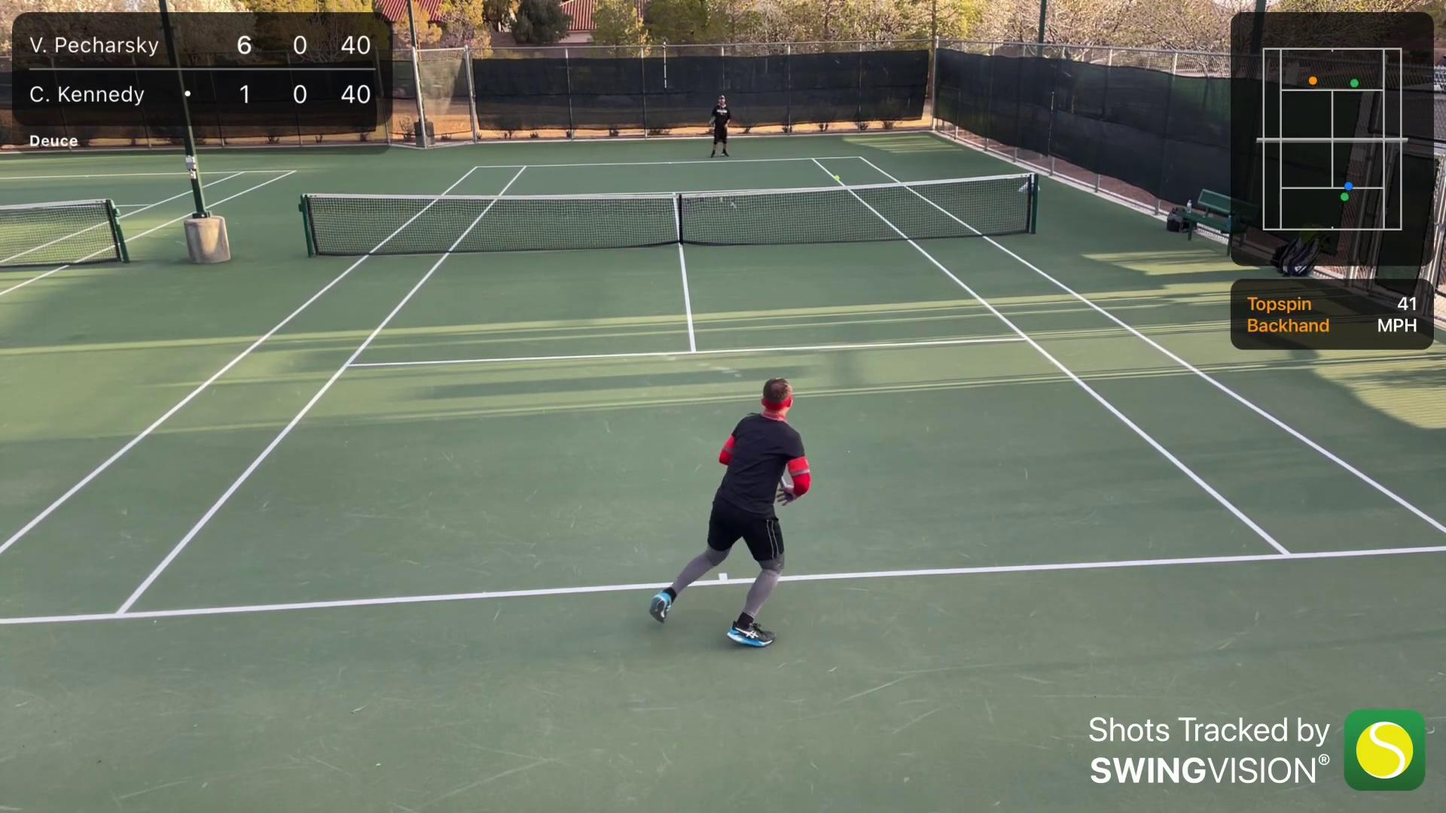ball: (835, 175, 842, 182)
